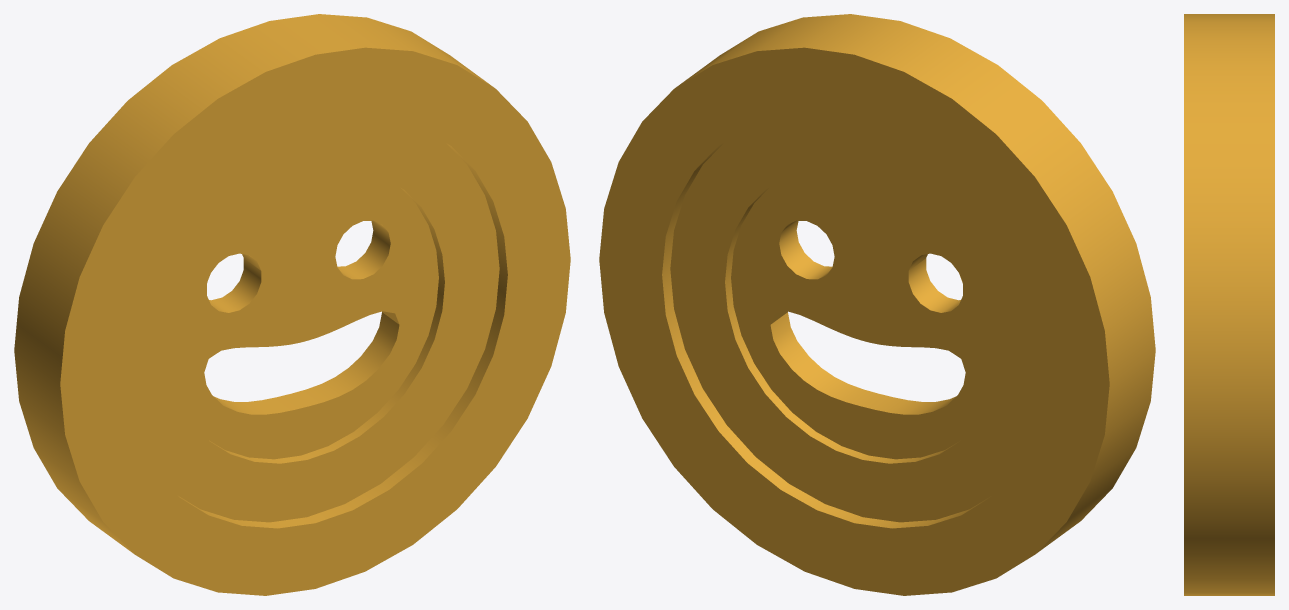
File: Coin.gltf
The picture shows the model from 3 angles, left to right: view 1: azimuth 30°, elevation 25°; view 2: azimuth 150°, elevation 25°; view 3: azimuth 270°, elevation 25°; orthographic projection.
Parts seen in each view (by area): view 1: Cylinder; view 2: Cylinder; view 3: Cylinder.
Boxes of the visible parts, x1,y1,x2,y2 form: Cylinder: (14, 14, 570, 595); Cylinder: (599, 14, 1155, 595); Cylinder: (1184, 14, 1274, 595).
Bounding box in the file's own units: 0.4 × 0.4 × 0.0624.
